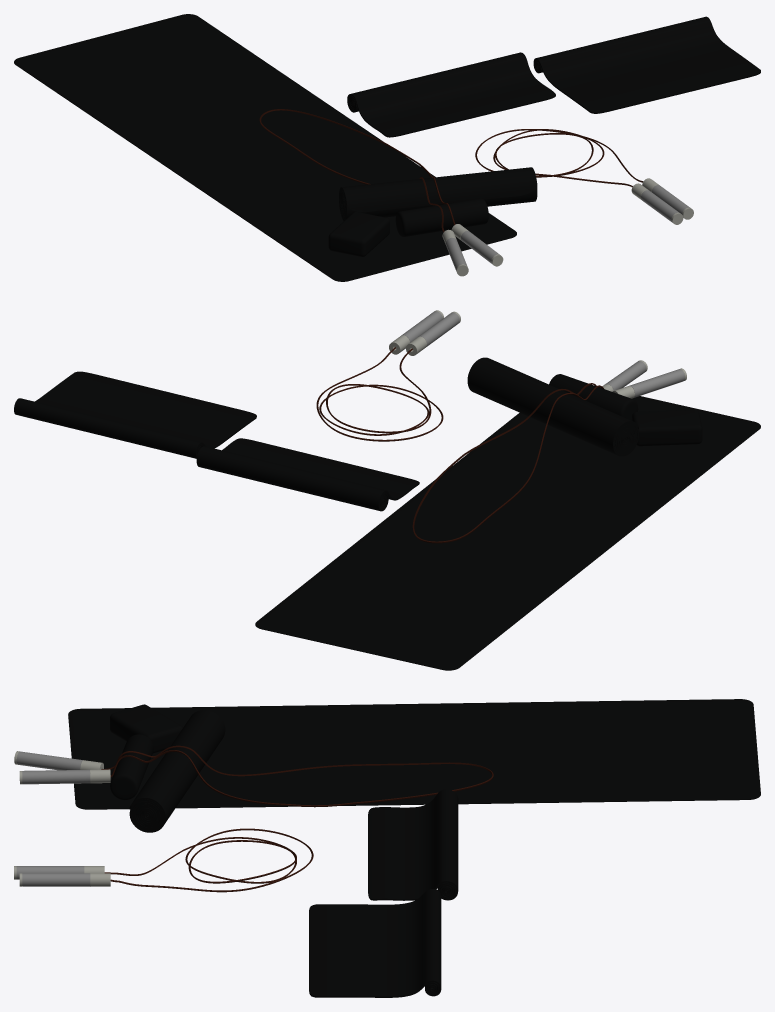
The model's file is Yoga_Set.fbx.
3 views of the same model, one above another, from view 1: azimuth 30°, elevation 25°; view 2: azimuth 150°, elevation 25°; view 3: azimuth 270°, elevation 25° (orthographic). The views are drawn at different scales.
Parts seen in each view (by area): view 1: Yoga_Mat_Flat, Yoga_Mat_Part_Rolled_2, Yoga_Mat_Part_Rolled_1, Yoga_Mat_Rolled, Cork_Roller, Cork_Block, Curve002, Curve001, Handle_Wood001, Handle_Wood002; view 2: Yoga_Mat_Flat, Yoga_Mat_Part_Rolled_2, Yoga_Mat_Part_Rolled_1, Yoga_Mat_Rolled, Cork_Block, Curve002, Cork_Roller, Curve001, Handle_Wood; view 3: Yoga_Mat_Flat, Yoga_Mat_Part_Rolled_2, Yoga_Mat_Part_Rolled_1, Yoga_Mat_Rolled, Curve002, Cork_Block, Curve001, Cork_Roller, Handle_Wood001, Handle_Wood003, Handle_Wood, Handle_Wood002.
Part boxes in pixels (<box>): Yoga_Mat_Flat: <box>14,14,516,281</box>; Yoga_Mat_Part_Rolled_2: <box>533,16,760,113</box>; Yoga_Mat_Part_Rolled_1: <box>347,52,555,137</box>; Yoga_Mat_Rolled: <box>339,167,537,220</box>; Cork_Roller: <box>395,198,488,236</box>; Cork_Block: <box>328,212,389,256</box>; Curve002: <box>475,129,643,187</box>; Curve001: <box>259,109,455,232</box>; Handle_Wood001: <box>461,231,499,263</box>; Handle_Wood002: <box>641,190,679,222</box>; Yoga_Mat_Flat: <box>255,396,760,670</box>; Yoga_Mat_Part_Rolled_2: <box>14,371,256,458</box>; Yoga_Mat_Part_Rolled_1: <box>196,438,419,511</box>; Yoga_Mat_Rolled: <box>467,357,638,456</box>; Cork_Block: <box>632,409,702,446</box>; Curve002: <box>316,347,443,441</box>; Cork_Roller: <box>549,374,638,420</box>; Curve001: <box>412,383,603,543</box>; Handle_Wood: <box>629,369,684,397</box>; Yoga_Mat_Flat: <box>68,699,760,809</box>; Yoga_Mat_Part_Rolled_2: <box>309,889,441,997</box>; Yoga_Mat_Part_Rolled_1: <box>368,789,458,900</box>; Yoga_Mat_Rolled: <box>129,710,225,832</box>; Curve002: <box>104,828,313,892</box>; Cork_Block: <box>110,704,182,753</box>; Curve001: <box>101,745,493,807</box>; Cork_Roller: <box>110,734,153,800</box>; Handle_Wood001: <box>22,769,90,784</box>; Handle_Wood003: <box>22,873,90,886</box>; Handle_Wood: <box>16,751,82,770</box>; Handle_Wood002: <box>16,866,84,879</box>.
Size of the model in its own units: 2173 by 131 by 2305.
